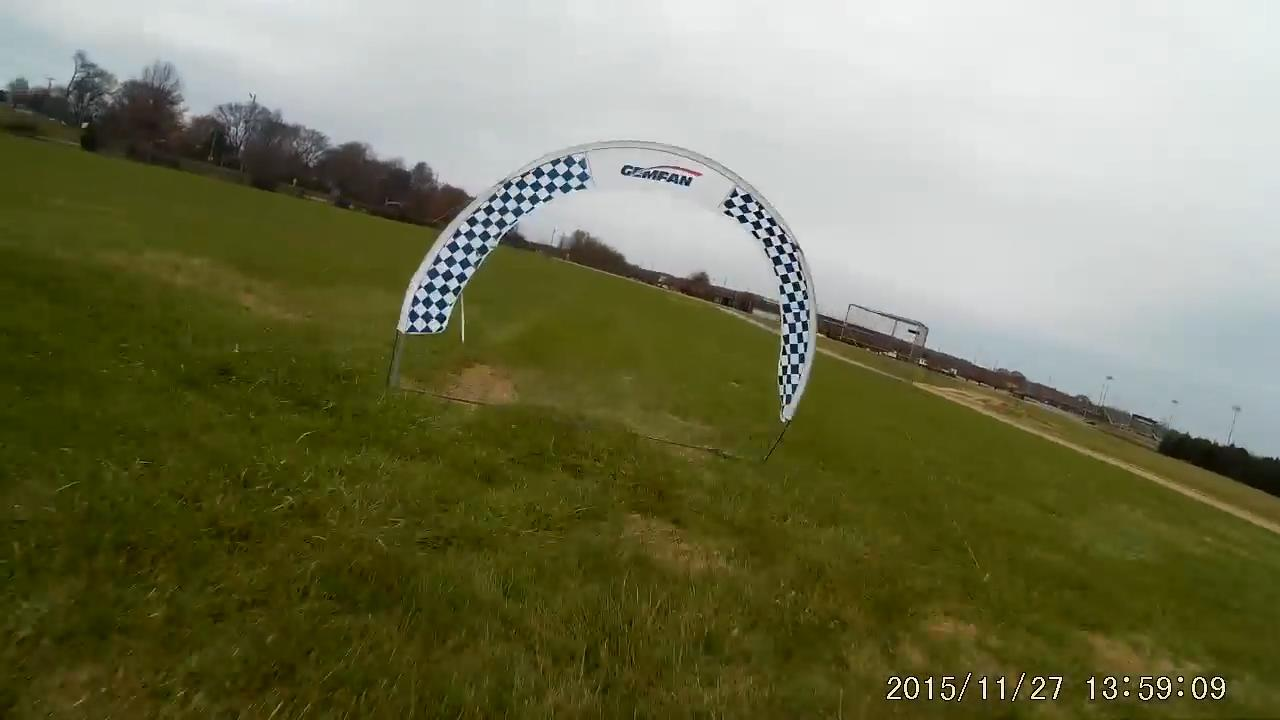gate: (396, 135, 820, 429)
